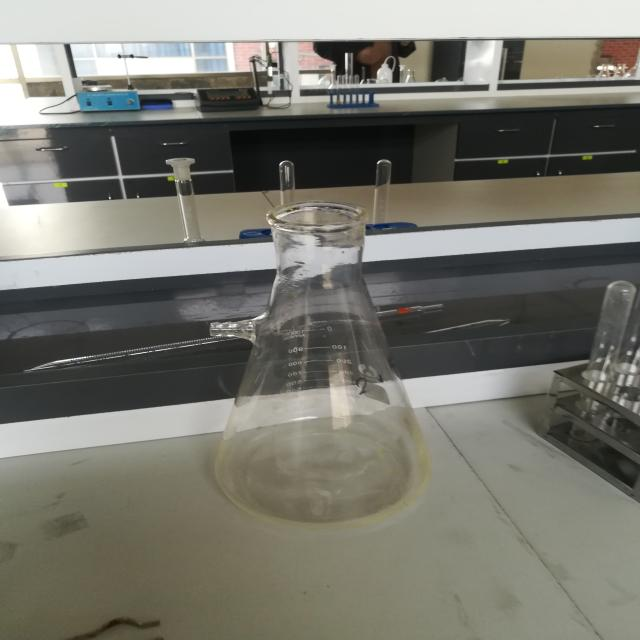Conical_Flask: (159, 195, 485, 558)
